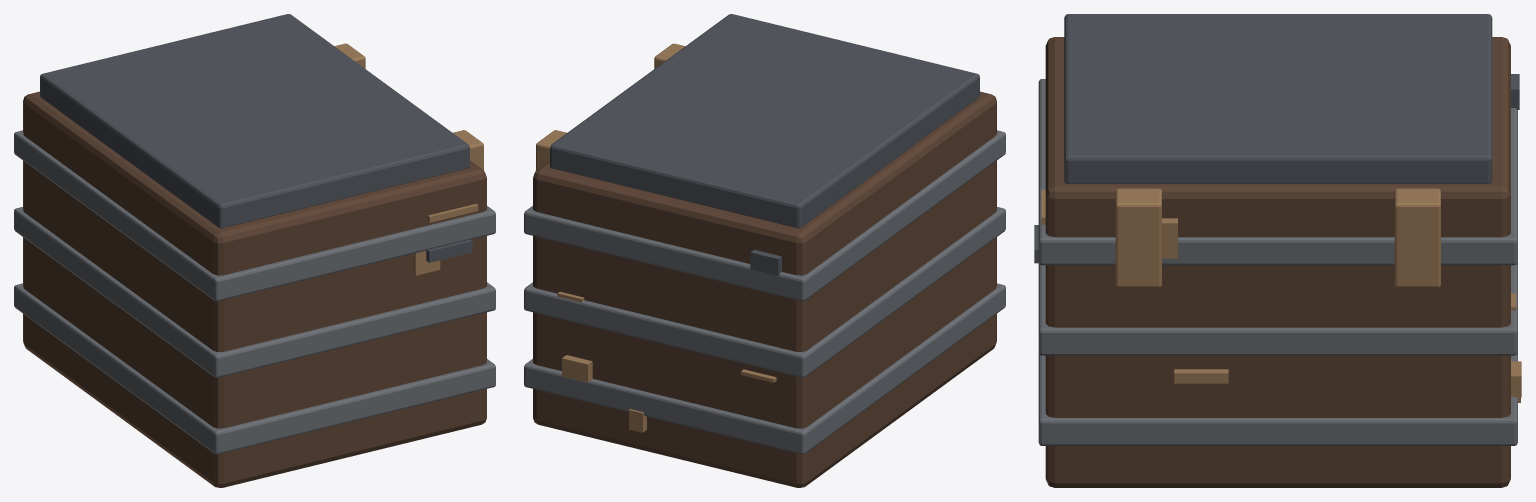
File: prop_scrap_crate.fbx
The picture shows the model from 3 angles, left to right: view 1: azimuth 30°, elevation 25°; view 2: azimuth 150°, elevation 25°; view 3: azimuth 270°, elevation 25°; orthographic projection. The views are drawn at different scales.
Visible parts, largest first — view 1: SM_Prop_ScrapCrate; view 2: SM_Prop_ScrapCrate; view 3: SM_Prop_ScrapCrate.
Part boxes in pixels (<box>): SM_Prop_ScrapCrate: <box>14,14,495,487</box>; SM_Prop_ScrapCrate: <box>524,14,1005,487</box>; SM_Prop_ScrapCrate: <box>1034,14,1521,487</box>.
Size of what is drawn, in the model's own units: 61.84 by 54.5 by 73.37.
